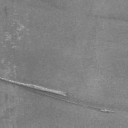finishing roll printing: (0, 77, 114, 114)
